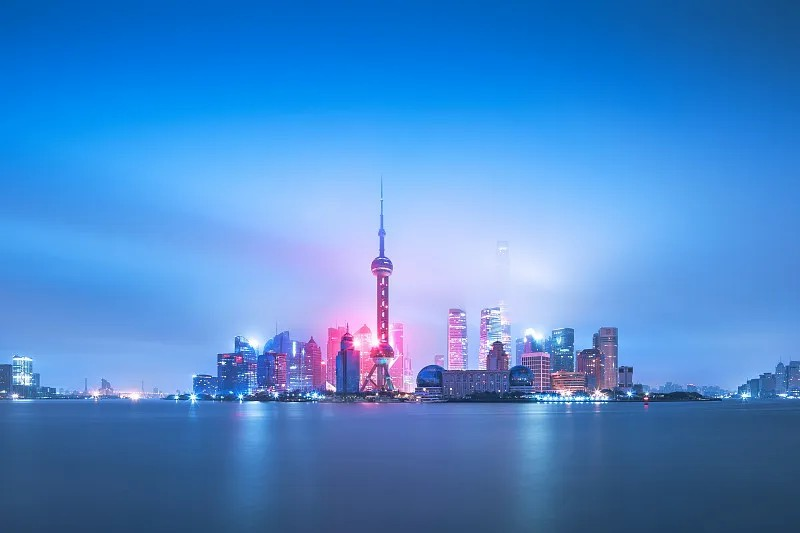Oriental: (357, 175, 395, 391)
